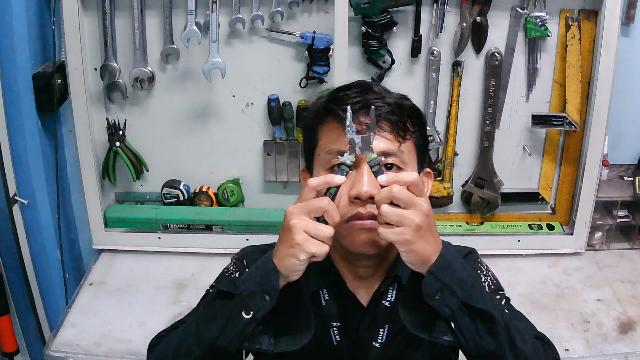tang_kombinasi: (315, 101, 402, 249)
